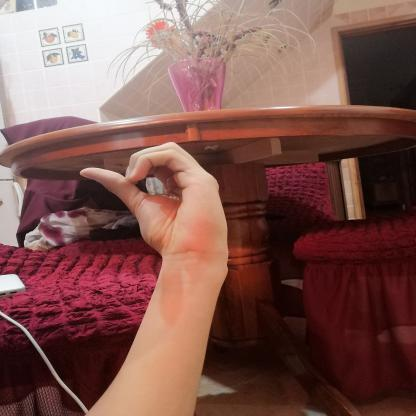WAW: (66, 132, 242, 277)
